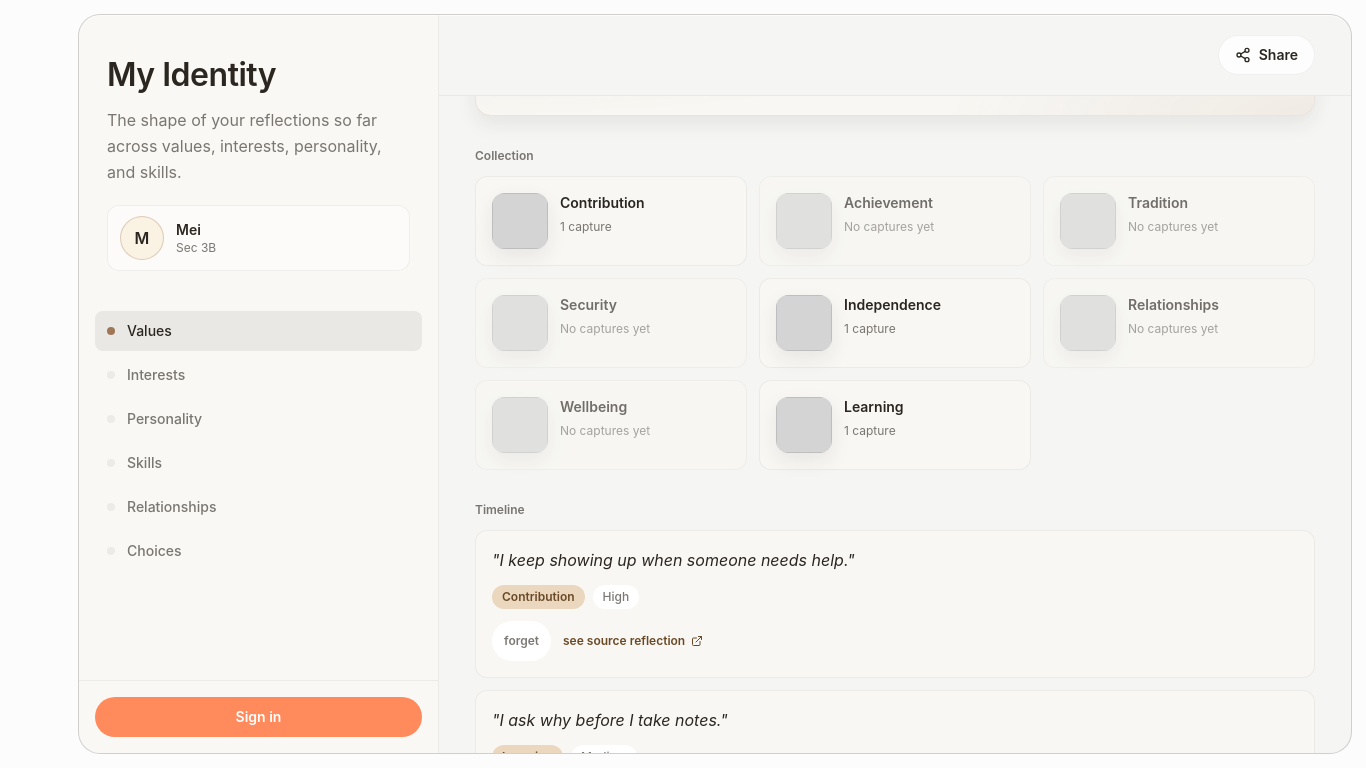
ProfileSheet (React) › filters the timeline when a collection tile is selected
The image size is (1366, 768).
(page scrolled)
Click the button "Learning 1 capture" at (895, 424), box [759,380,1031,470]
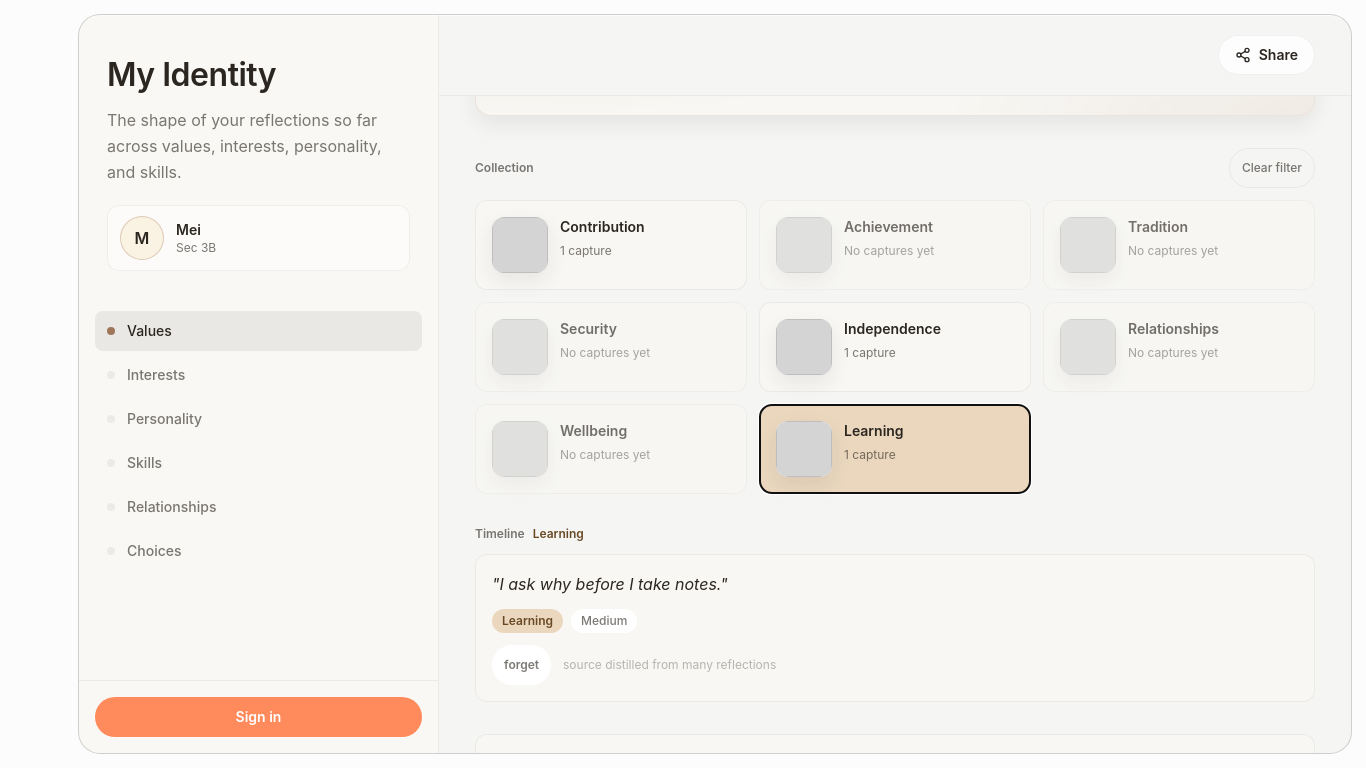
Expected: the text "\"I ask why before I take notes.\"" is shown, [492,574,728,594]
Expected: the text "\"I keep showing up when someone needs help.\"" is gone
